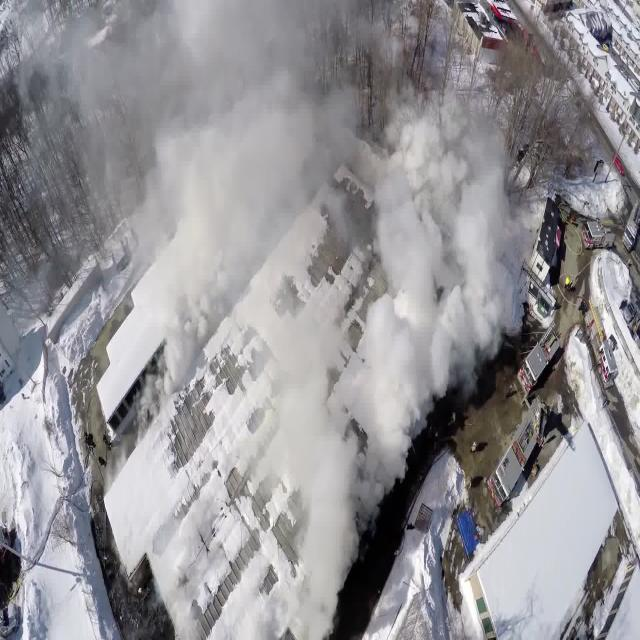smoke: (115, 17, 298, 222), (399, 152, 502, 357)
